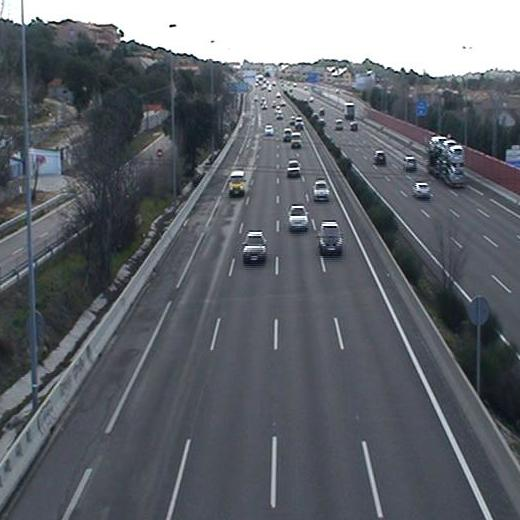car: (241, 229, 270, 266), (315, 220, 344, 254), (285, 204, 311, 231), (312, 179, 330, 204), (286, 160, 302, 178), (290, 131, 303, 149)
van: (226, 169, 247, 198)
